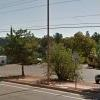Tree: (49, 28, 76, 89)
